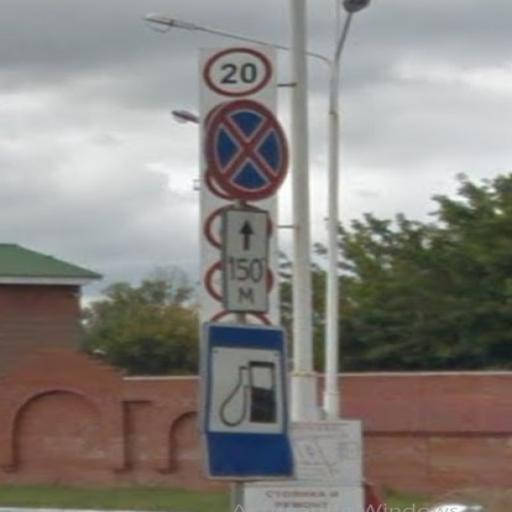traffic_sign: (203, 322, 299, 483), (205, 99, 292, 204), (205, 48, 274, 99)
